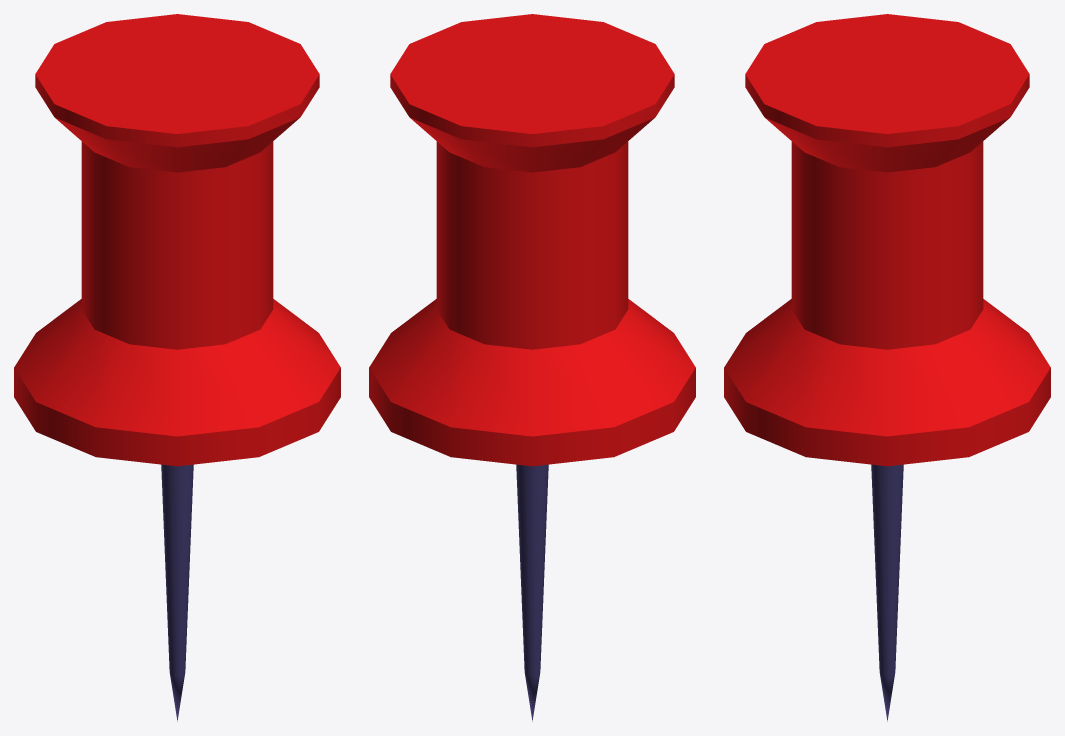
File: STM_PushPin.fbx
3 views of the same model, side by side, from view 1: azimuth 30°, elevation 25°; view 2: azimuth 150°, elevation 25°; view 3: azimuth 270°, elevation 25° (orthographic).
Parts seen in each view (by area): view 1: push_pin; view 2: push_pin; view 3: push_pin.
Part boxes in pixels (x1,y1,x2,y2): push_pin: (14,14,340,721); push_pin: (369,14,695,721); push_pin: (724,14,1050,721).
Size of the model in its own units: 9.92 by 21.7 by 9.92.
